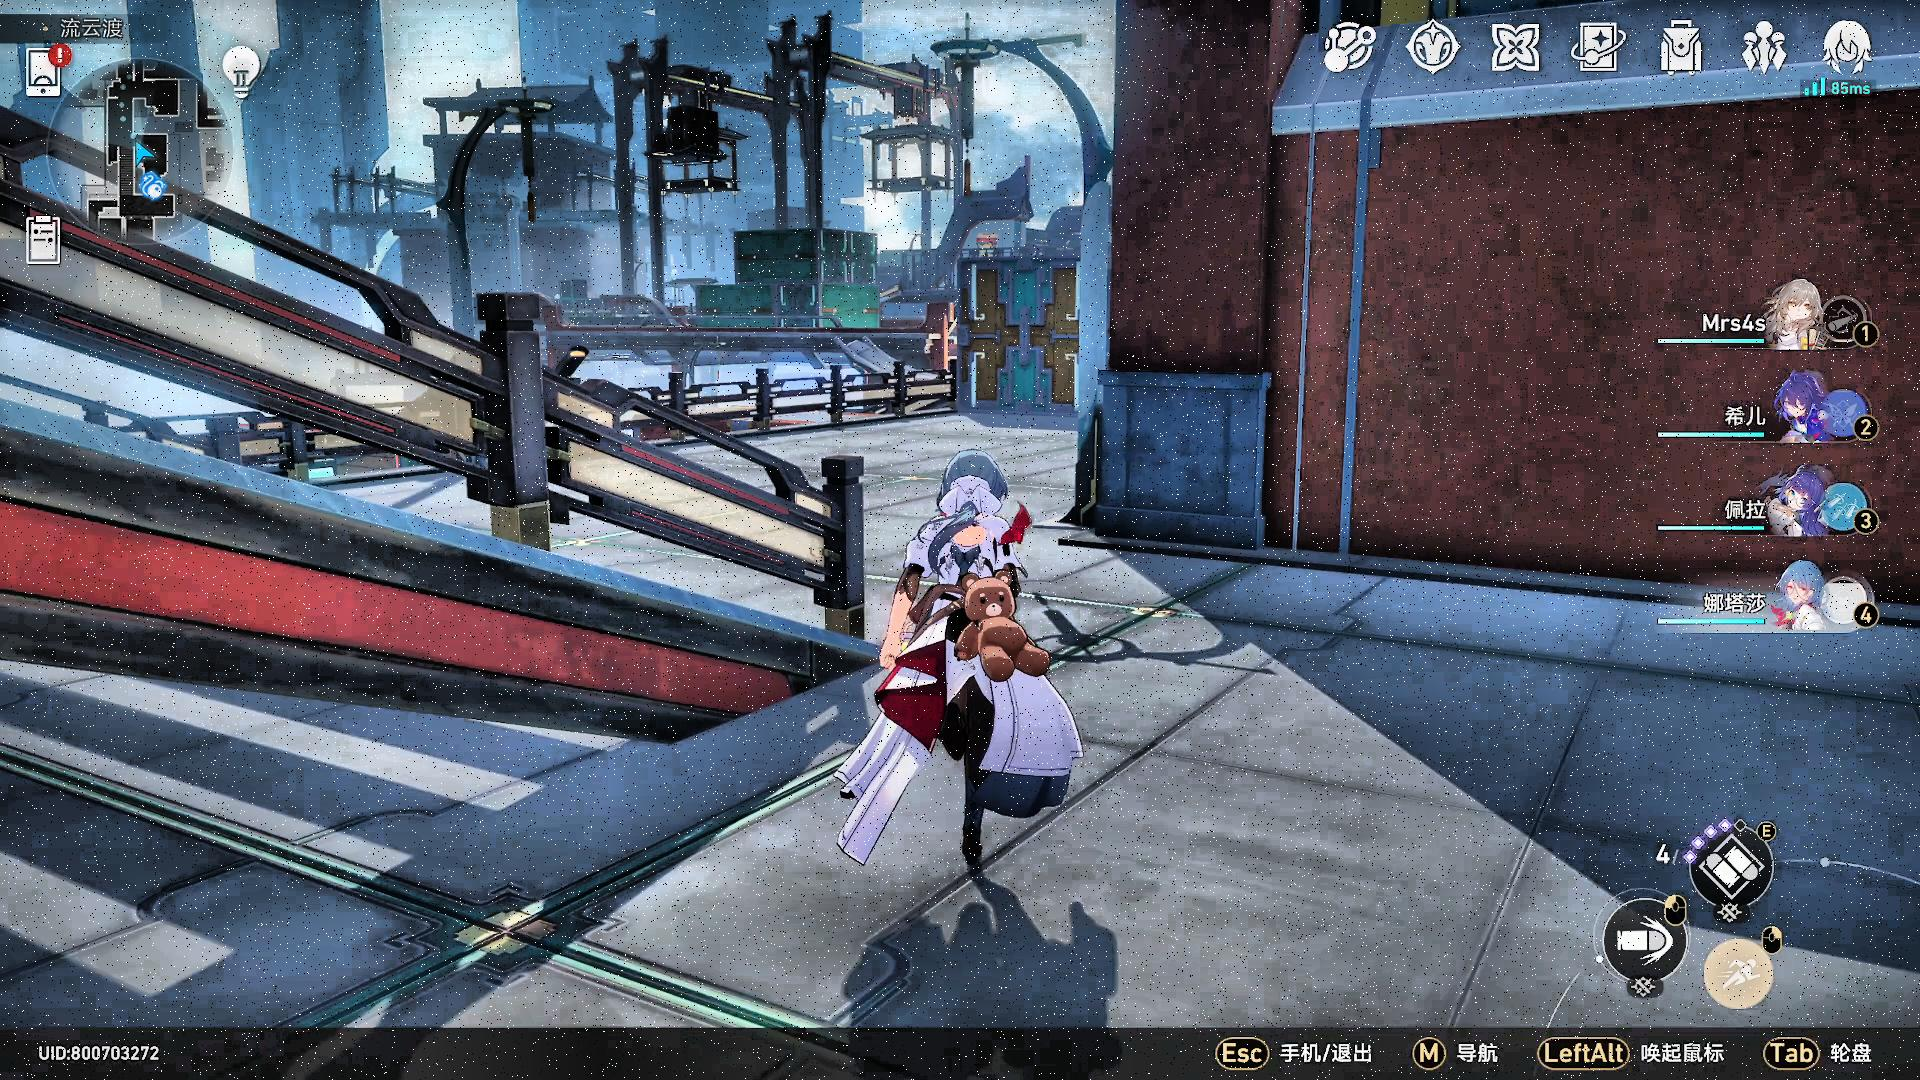Self: (844, 448, 1085, 884)
